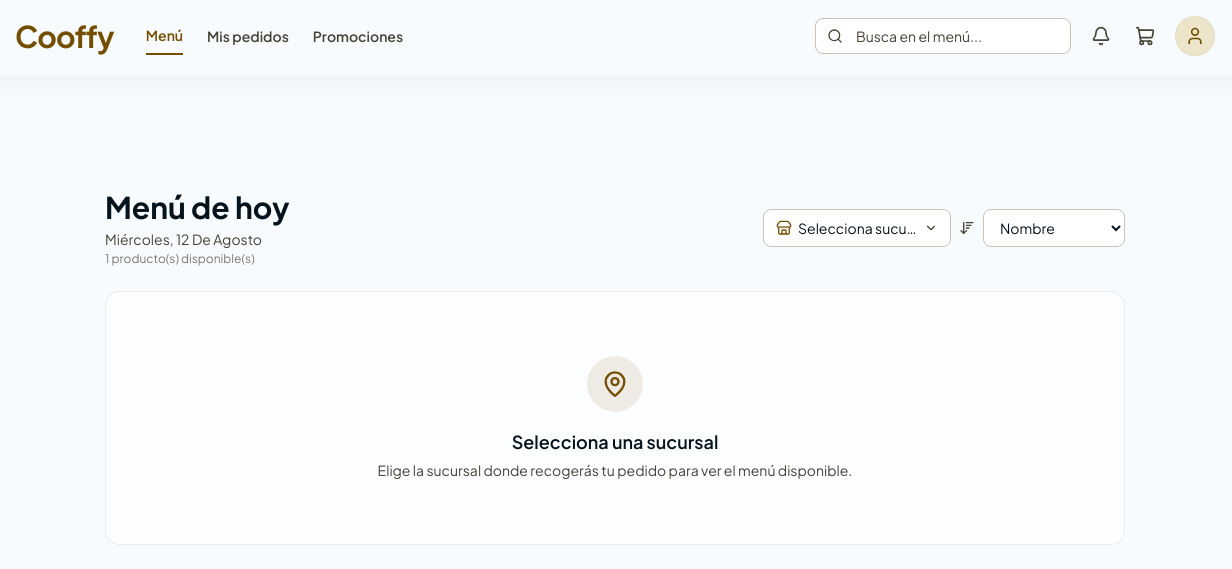
Test: MenuView search and filters › renders product cards when products are returned
The image size is (1232, 569).
Click the button "Selecciona sucursal": click(857, 228) [763,209,951,247]
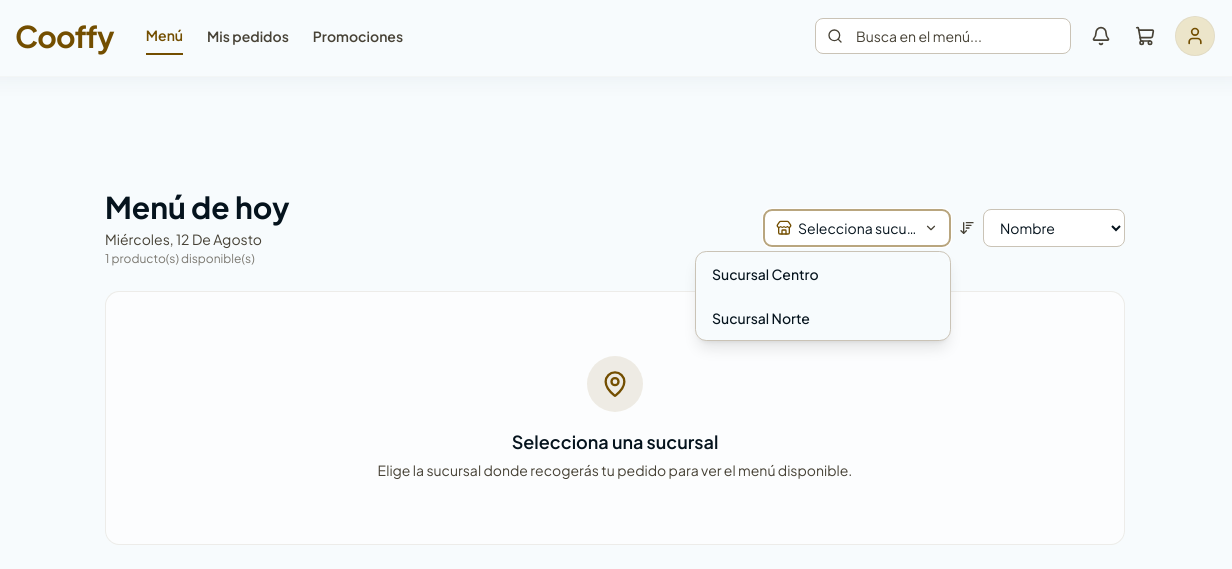
Click the button "Sucursal Centro": click(823, 274) [696,252,950,296]
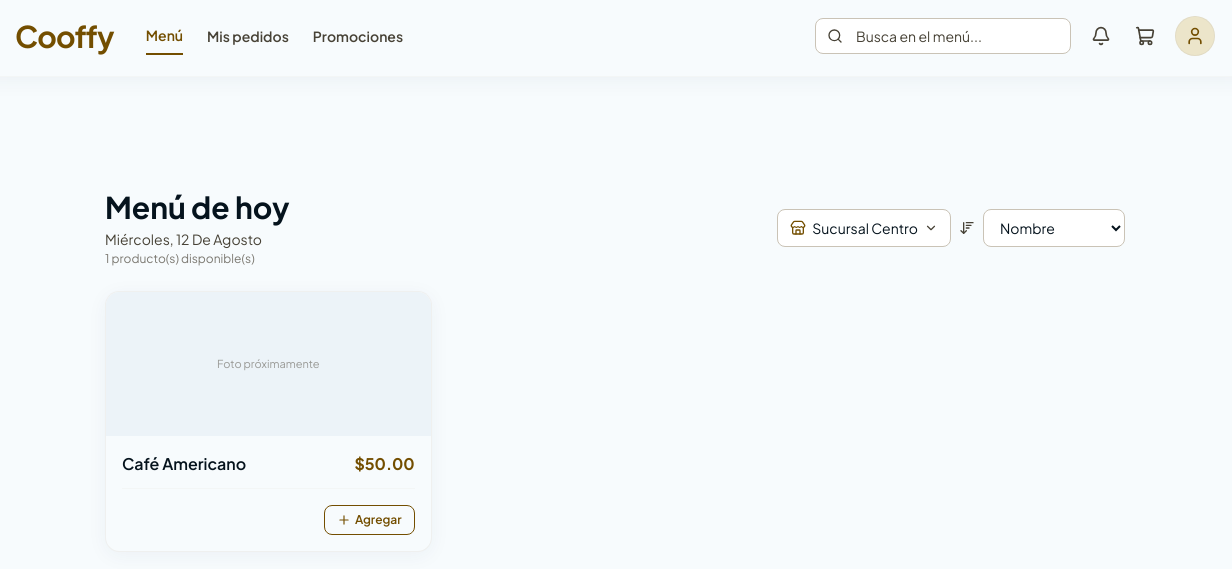
Expected: the text "1 producto(s) disponible(s)" is shown, [105,251,255,266]
Now the heading "Café Americano" is shown, box [122,452,246,476]
